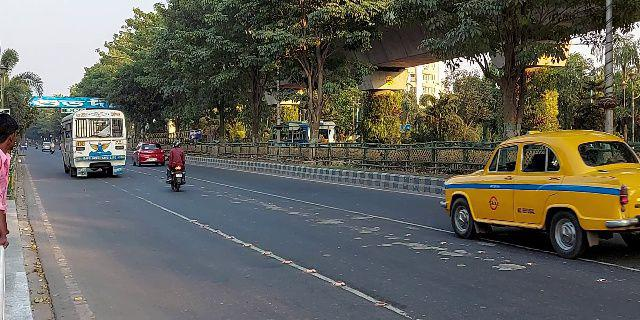Bus: (58, 107, 130, 179)
Car: (438, 126, 640, 257), (131, 139, 167, 169)
Motorbike: (164, 140, 188, 194)
